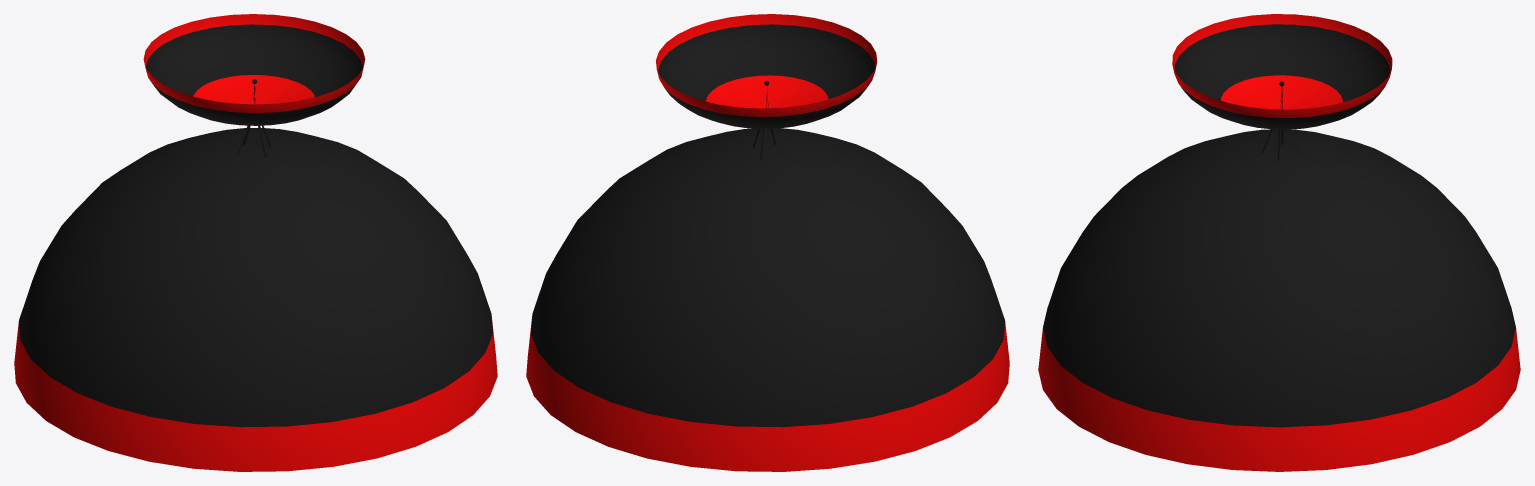
3 renders of one model, left to right at view 1: azimuth 30°, elevation 25°; view 2: azimuth 150°, elevation 25°; view 3: azimuth 270°, elevation 25°, orthographic.
Visible parts, largest first — view 1: Sphere003; view 2: Sphere003; view 3: Sphere003.
Part boxes in pixels (x1,y1,x2,y2): Sphere003: (14, 14, 497, 471); Sphere003: (526, 14, 1009, 471); Sphere003: (1038, 14, 1520, 471).
Size of the model in its own units: 119 by 84.34 by 119.
